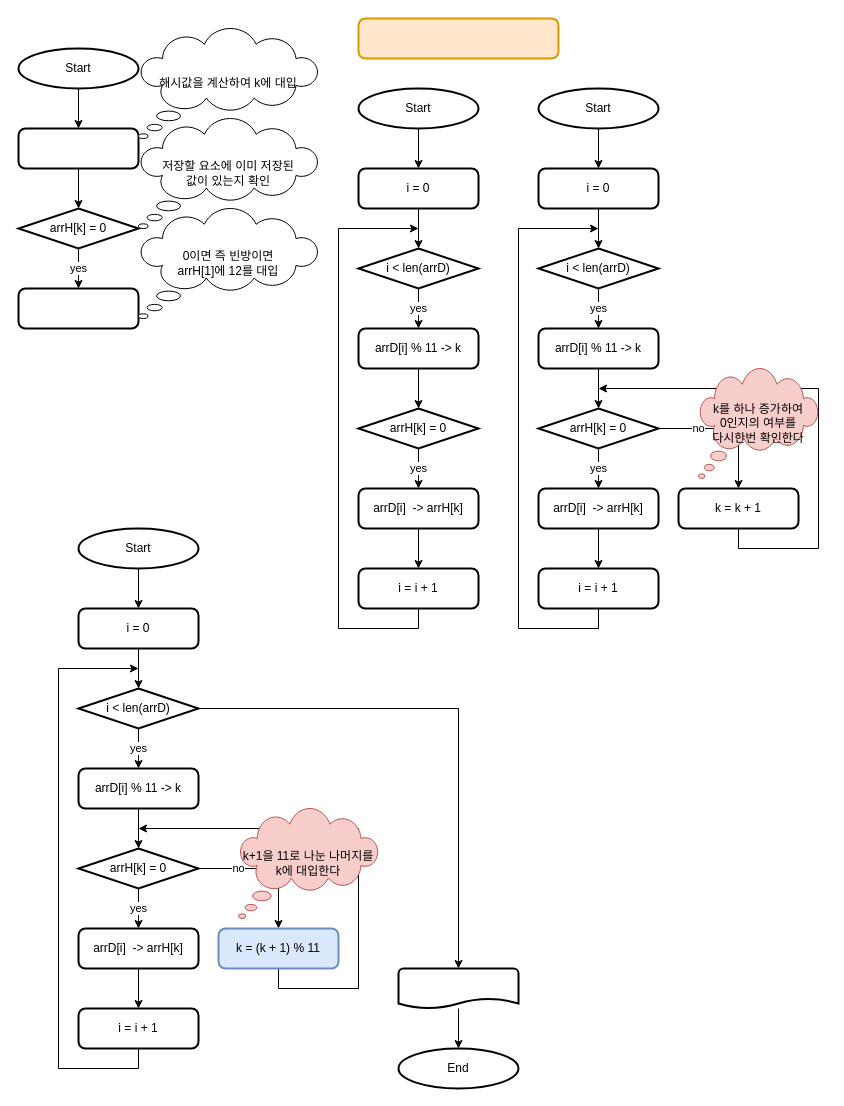
Image size: 844x1106. Some labels were removed from this diagram. The box of each missing label's shape, as (x1, y1, x2, y2) in pixels:
arrD[0] % 11 -> k: (17, 127, 139, 169)
arrD[0] -> arrH[k]: (17, 287, 139, 329)
arrH: (397, 967, 519, 1009)
Hash Search: (357, 17, 559, 59)
